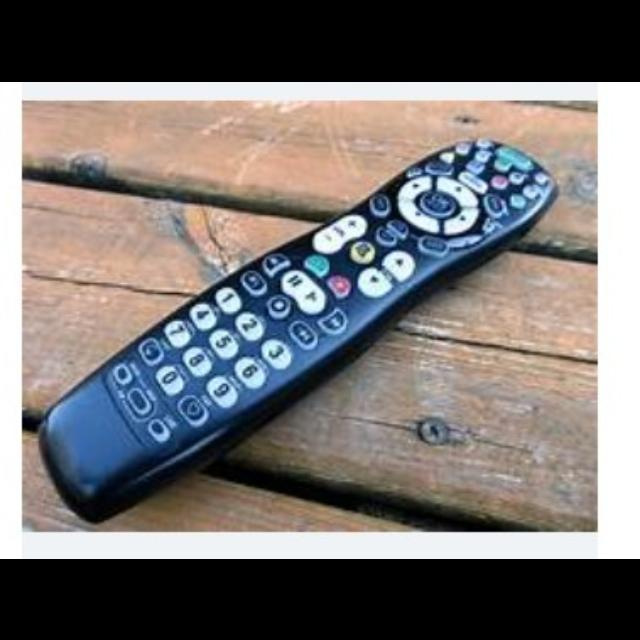TV-Remote-Control: (35, 137, 559, 527)
